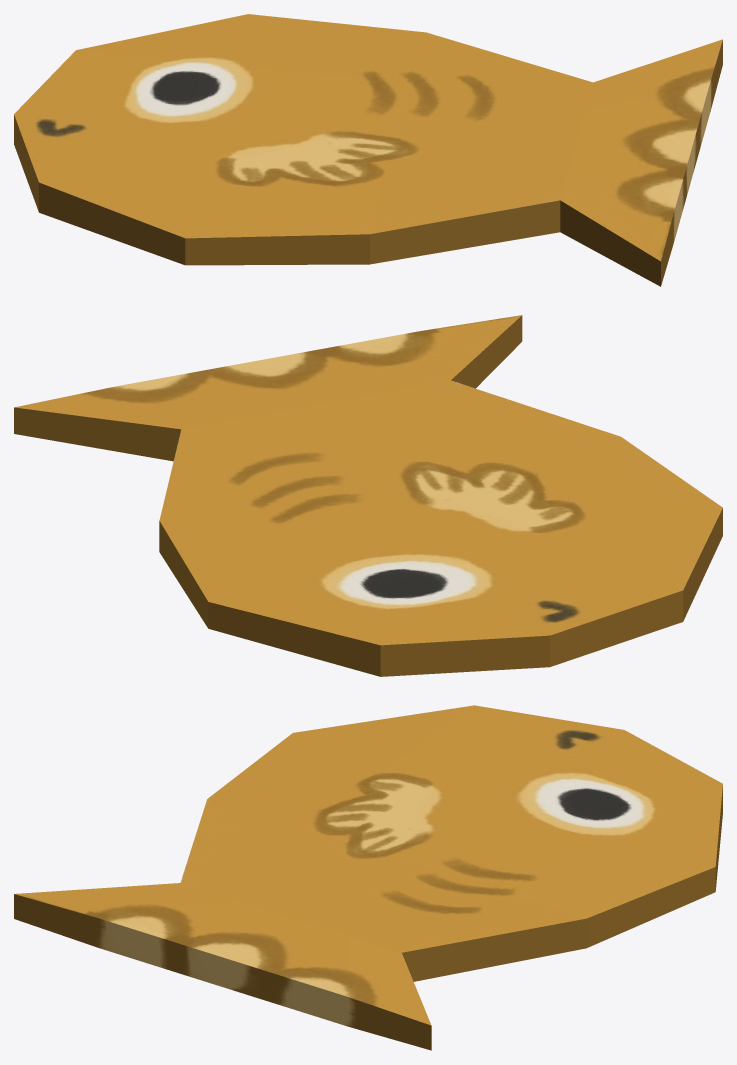
Rendered from posavasospez.fbx.
3 renders of one model, top to bottom at view 1: azimuth 30°, elevation 25°; view 2: azimuth 150°, elevation 25°; view 3: azimuth 270°, elevation 25°, orthographic. The views are drawn at different scales.
Parts seen in each view (by area): view 1: posavaso pez; view 2: posavaso pez; view 3: posavaso pez.
Part boxes in pixels (x1,y1,x2,y2): posavaso pez: (14,14,722,286); posavaso pez: (14,315,722,676); posavaso pez: (14,705,722,1050).
Bounding box in the file's own units: 17.81 × 0.8216 × 16.78.
